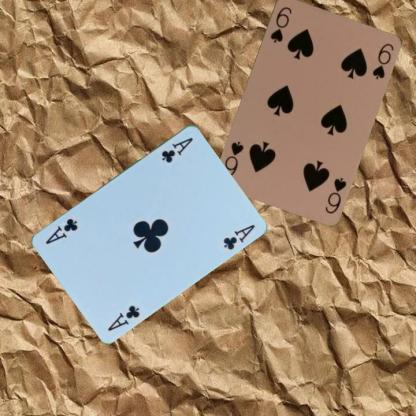6s: (267, 3, 293, 44), (322, 174, 348, 215)
Ac: (104, 302, 142, 332), (158, 134, 195, 164)
